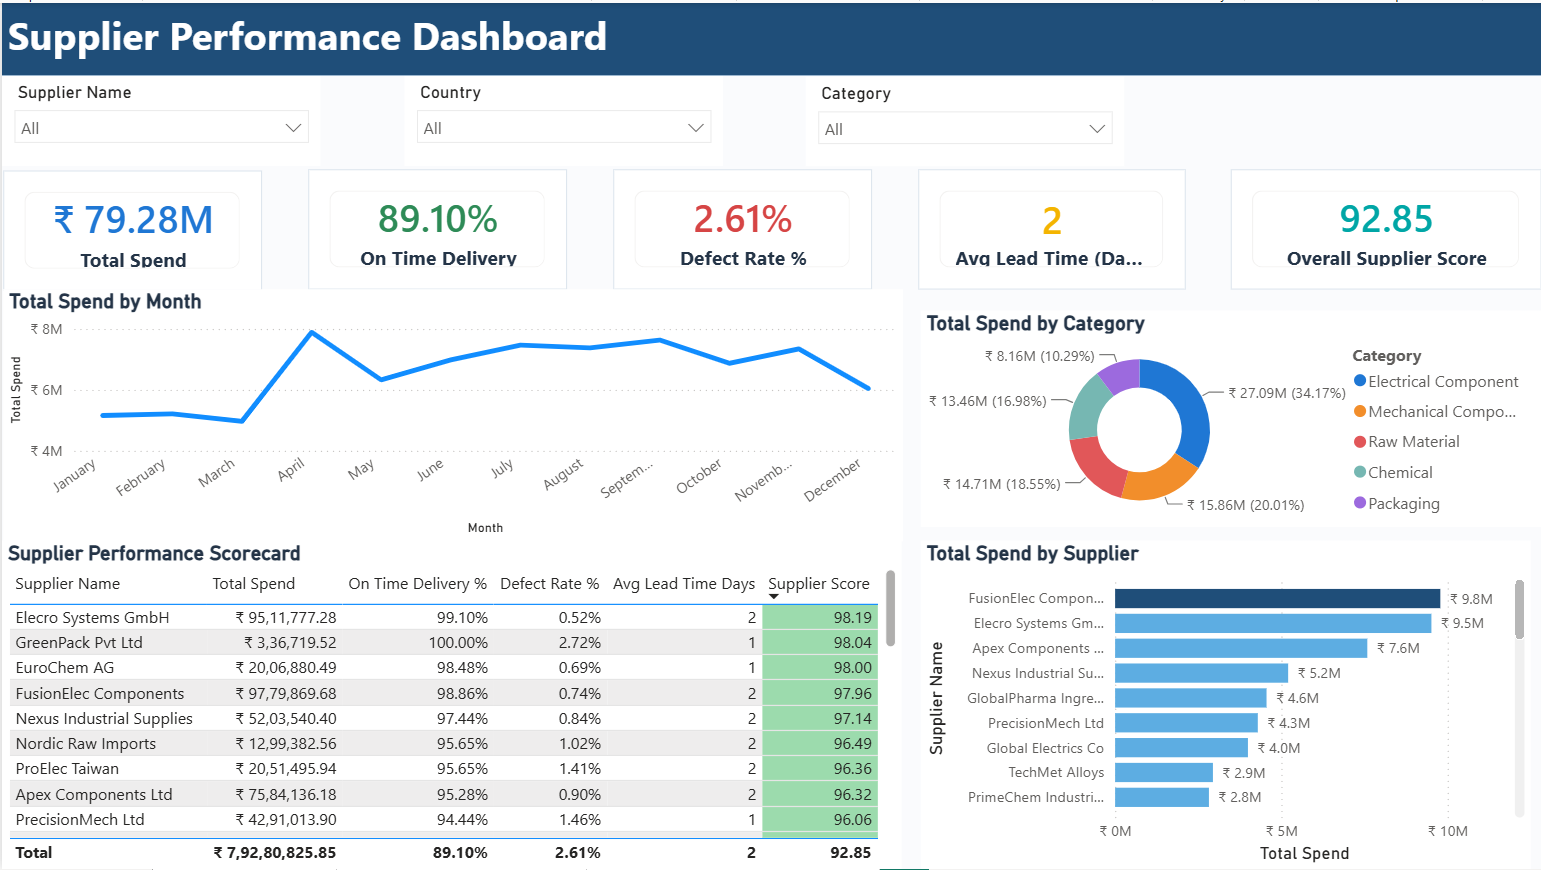

This screenshot's page, from the dashboard's own definition file:
{"tool":"powerbi","page":{"name":"Executive Summary","canvas":[1280,720],"ordinal":0},"visuals":[{"type":"cardVisual","fields":{"Data":["Supplier Measure.Total_Spend"]},"box":[1.2,138.8,215.1,100],"z":0},{"type":"cardVisual","fields":{"Data":["Supplier Measure.On_Time_Delivery_Pct"]},"box":[254.7,138.4,215.1,100],"z":1000},{"type":"cardVisual","fields":{"Data":["Supplier Measure.Defect_Rate_Pct"]},"box":[508.2,138.4,215.1,100],"z":2000},{"type":"cardVisual","fields":{"Data":["Supplier Measure.Supplier_Score"]},"box":[1021.9,138.4,258.1,100],"z":3000},{"type":"slicer","fields":{"Values":["Dim_Supplier.Supplier_Name"]},"box":[0,60.4,264.8,75.5],"z":5000},{"type":"slicer","fields":{"Values":["Dim_Supplier.Country"]},"box":[334.1,60.4,264.8,75.5],"z":6000},{"type":"slicer","fields":{"Values":["Product_Master.Category"]},"box":[668.3,61.7,264.8,74.1],"z":7000},{"type":"cardVisual","fields":{"Data":["Supplier Measure.Avg_Lead_Time_Days"]},"box":[761.6,138.4,222.1,100],"z":8000},{"type":"clusteredBarChart","title":"Total Spend by Supplier Name","fields":{"Category":["Dim_Supplier.Supplier_Name"],"Y":["Supplier Measure.Total Spend"]},"box":[802.7,447.3,467.9,273.1],"z":9000},{"type":"donutChart","title":"Total Spend by Category","fields":{"Category":["Product_Master.Category"],"Y":["Supplier Measure.Total Spend"]},"box":[764.3,255.2,516,179.8],"z":10000},{"type":"tableEx","title":"Supplier Performance Scorecard","fields":{"Values":["Dim_Supplier.Supplier_Name","Supplier Measure.Total Spend","Supplier Measure.On Time Delivery %","Supplier Measure.Defect Rate %","Supplier Measure.Avg_Lead_Time_Days","Supplier Measure.Supplier Score"]},"box":[0,447.3,764.3,273.1],"z":11000},{"type":"lineChart","title":"Total Spend by Month","fields":{"Category":["Fact_PurchaseOrders.PO_Date.Variation.Date Hierarchy.Month"],"Y":["Supplier Measure.Total Spend"]},"box":[1.2,238.4,747.7,209.3],"z":12000},{"type":"shape","box":[0,0,1280,60],"z":13000},{"type":"textbox","box":[0,0,1280.3,60],"z":13500}]}

Visuals, with their boxes in screenshot pixels (x1, y1, x2, y2), scaled from the page's 1280x720 canvas onto the 1541x870 screenshot:
cardVisual - Supplier Measure.Total_Spend: detection(1, 168, 260, 289)
cardVisual - Supplier Measure.On_Time_Delivery_Pct: detection(307, 167, 566, 288)
cardVisual - Supplier Measure.Defect_Rate_Pct: detection(612, 167, 871, 288)
cardVisual - Supplier Measure.Supplier_Score: detection(1230, 167, 1540, 288)
slicer - Dim_Supplier.Supplier_Name: detection(0, 73, 319, 164)
slicer - Dim_Supplier.Country: detection(402, 73, 721, 164)
slicer - Product_Master.Category: detection(805, 75, 1123, 164)
cardVisual - Supplier Measure.Avg_Lead_Time_Days: detection(917, 167, 1184, 288)
"Total Spend by Supplier Name" clusteredBarChart: detection(966, 540, 1530, 869)
"Total Spend by Category" donutChart: detection(920, 308, 1540, 526)
"Supplier Performance Scorecard" tableEx: detection(0, 540, 920, 869)
"Total Spend by Month" lineChart: detection(1, 288, 902, 541)
shape: detection(0, 0, 1540, 72)
textbox: detection(0, 0, 1540, 72)
